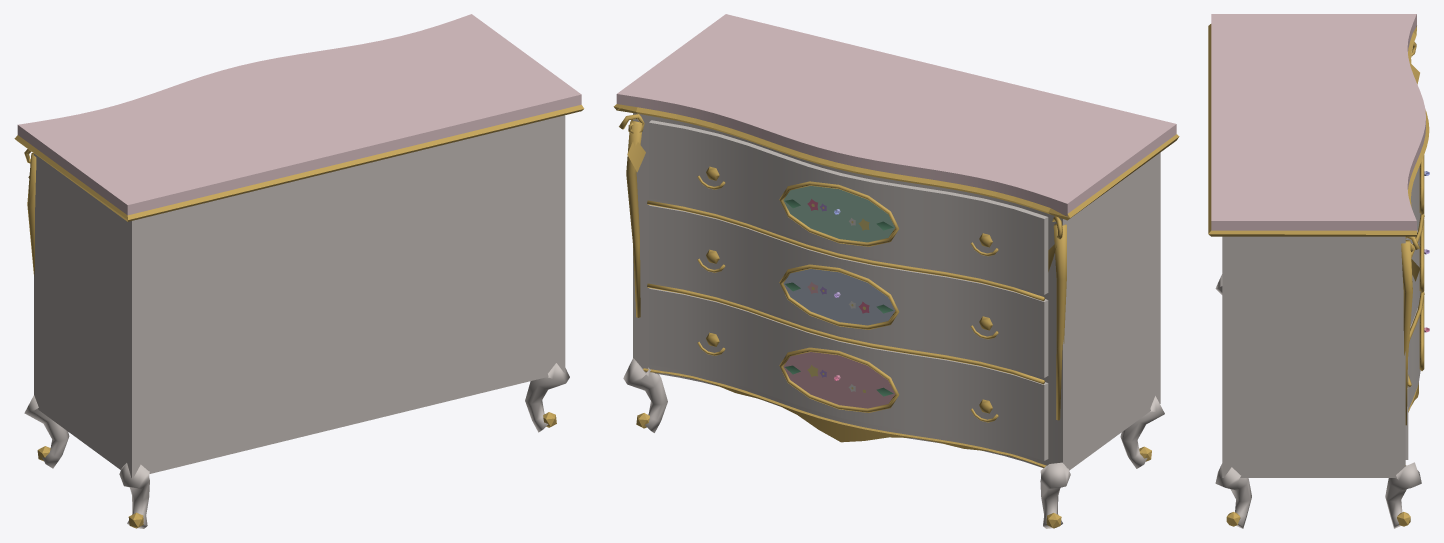
The model's file is commode_serpentine.glb.
3 renders of one model, left to right at view 1: azimuth 30°, elevation 25°; view 2: azimuth 150°, elevation 25°; view 3: azimuth 270°, elevation 25°, orthographic. The views are drawn at different scales.
Parts seen in each view (by area): view 1: commode_serpentine; view 2: commode_serpentine; view 3: commode_serpentine.
Part boxes in pixels (left/top/right/bottom): commode_serpentine: left=14, top=14, right=584, bottom=528; commode_serpentine: left=613, top=14, right=1179, bottom=528; commode_serpentine: left=1208, top=14, right=1429, bottom=528.
Size of what is drawn, in the model's own units: 1.3 by 0.92 by 0.58.
